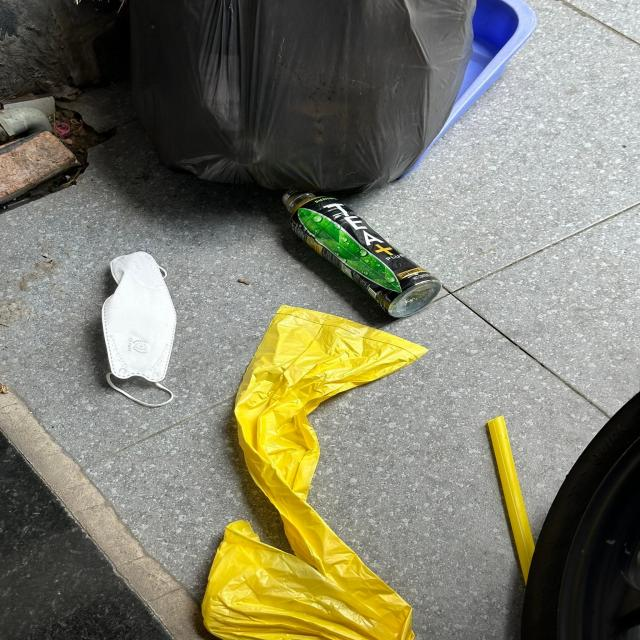bag: (204, 306, 430, 640)
bottle: (280, 192, 440, 316)
drinking straw: (488, 416, 534, 580)
mask: (100, 252, 180, 406)
trash bag: (120, 0, 468, 189)
